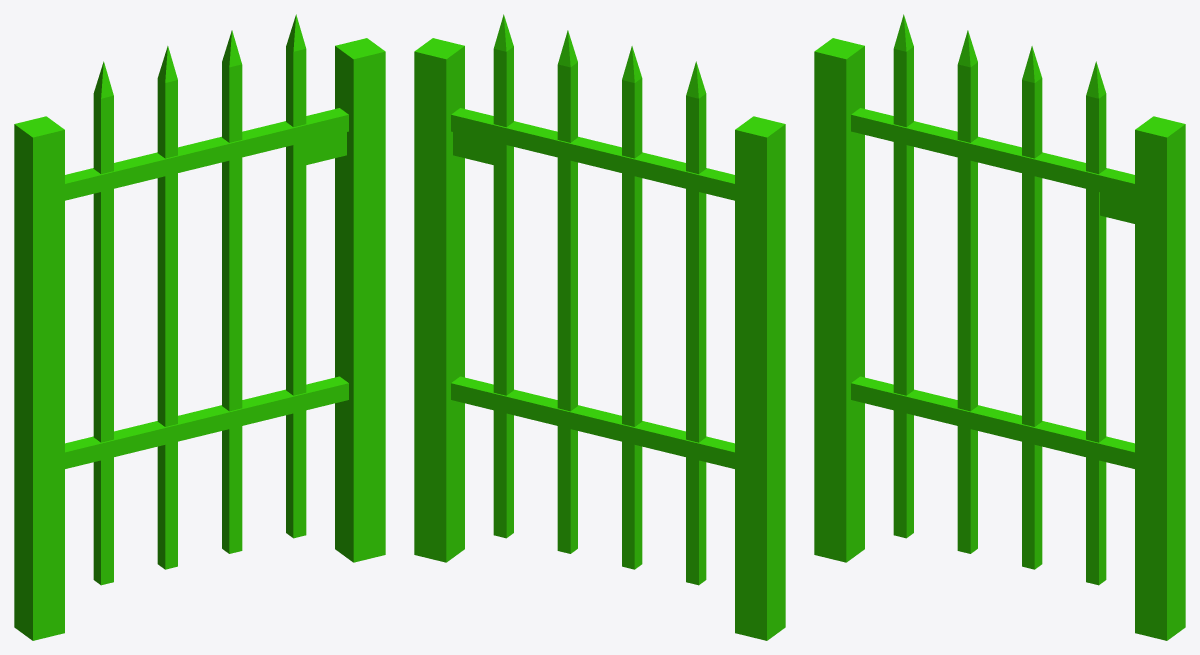
The model's file is fence2_single_gate.fbx.
3 renders of one model, left to right at view 1: azimuth 30°, elevation 25°; view 2: azimuth 150°, elevation 25°; view 3: azimuth 330°, elevation 25°, orthographic.
Parts seen in each view (by area): view 1: fence2_single_gate, fence2_single_gate_support; view 2: fence2_single_gate, fence2_single_gate_support; view 3: fence2_single_gate, fence2_single_gate_support.
Part boxes in pixels (left/top/right/bottom): fence2_single_gate: left=65, top=14, right=348, bottom=585; fence2_single_gate_support: left=14, top=38, right=385, bottom=640; fence2_single_gate: left=451, top=14, right=734, bottom=585; fence2_single_gate_support: left=414, top=38, right=785, bottom=640; fence2_single_gate: left=851, top=14, right=1134, bottom=585; fence2_single_gate_support: left=814, top=38, right=1185, bottom=640.
Bounding box in the file's own units: 110 × 165 × 10.
